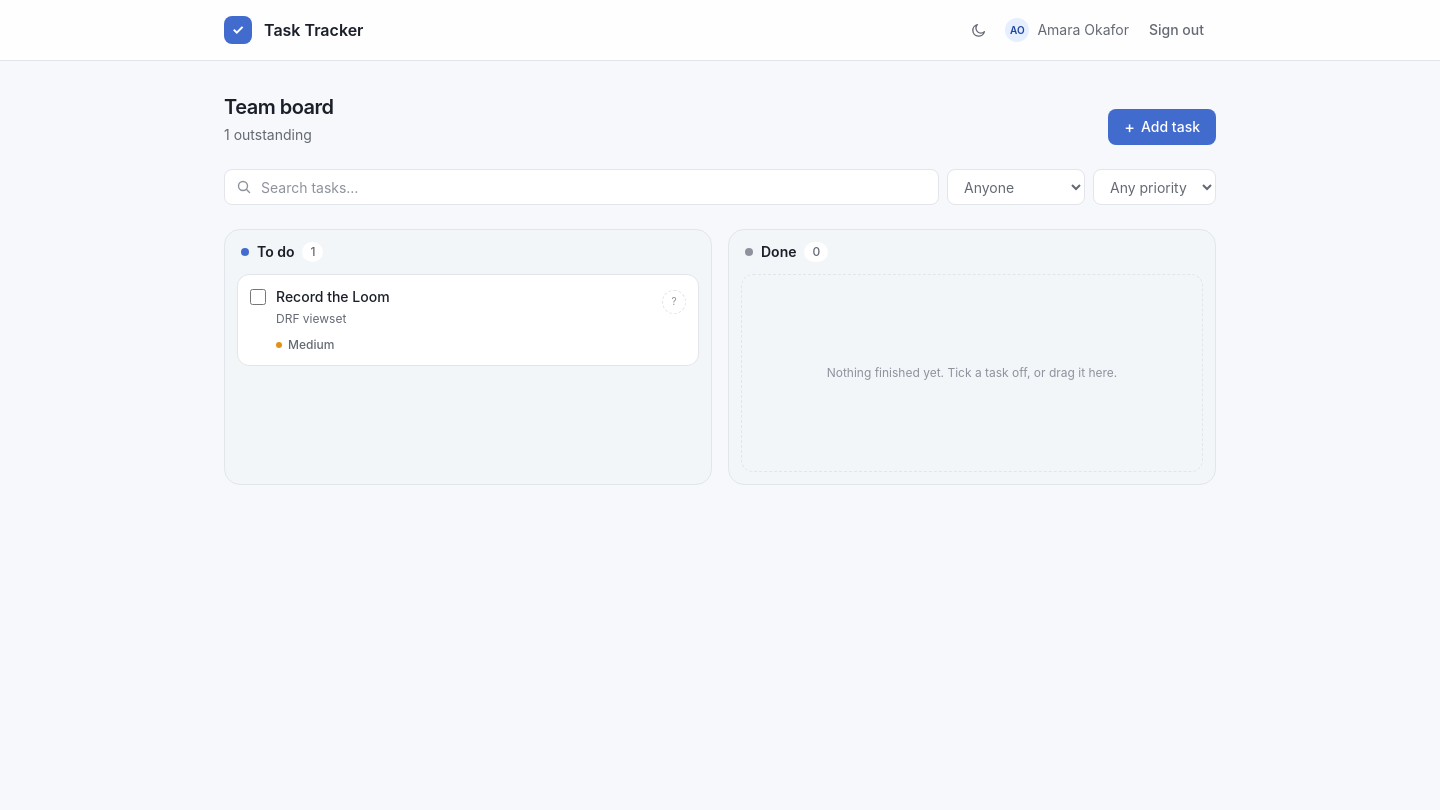
Scenario: TasksPage completion › rolls the checkbox back and warns when the server refuses
Click the checkbox named "Mark \"Record the Loom\" as complete": click(258, 297) [250,289,266,305]
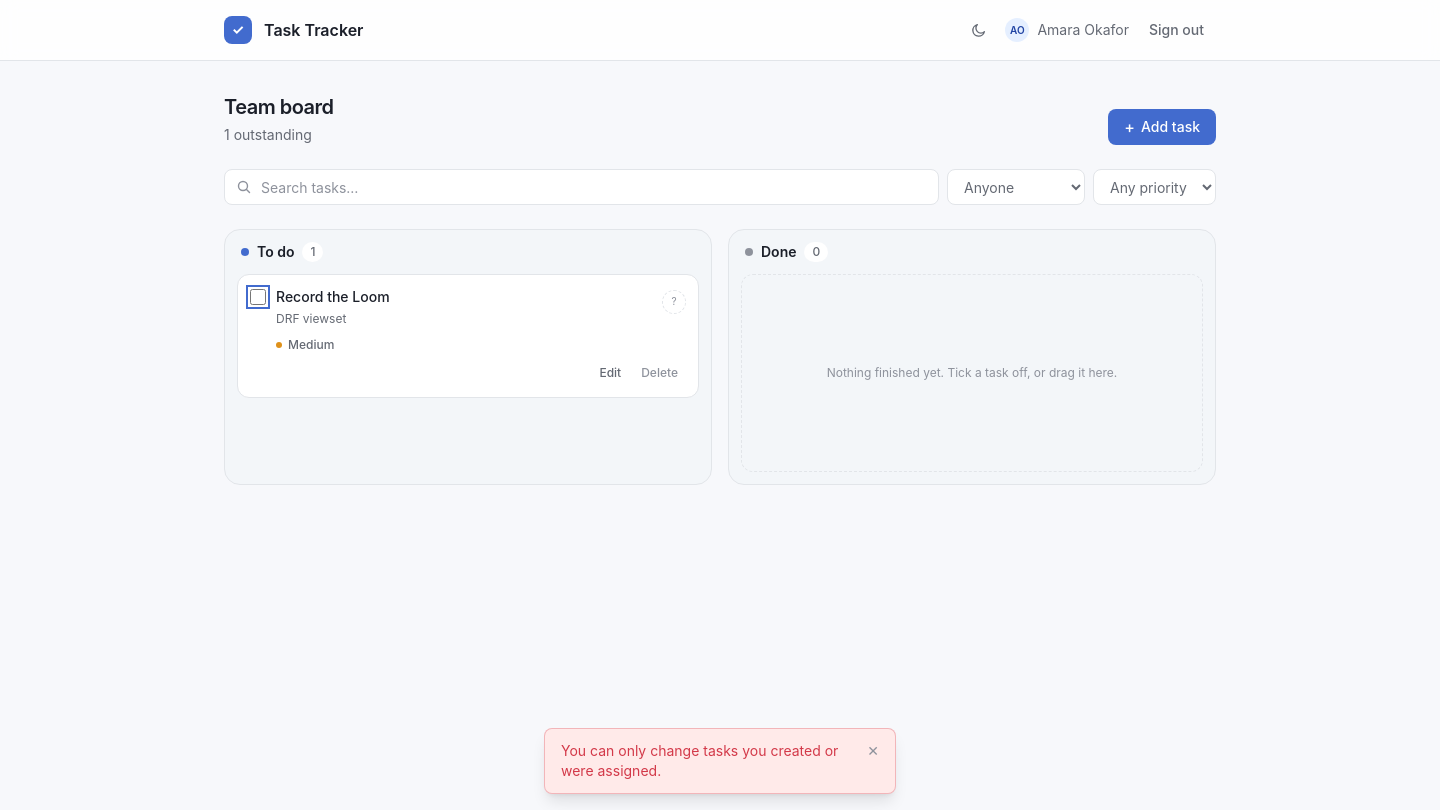
expect the text "You can only change tasks you created or were assigned." is shown: met, box [561,741,855,781]
